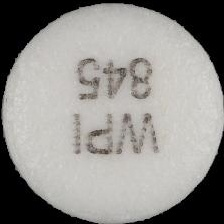55154-5992: (0, 0, 224, 224)
